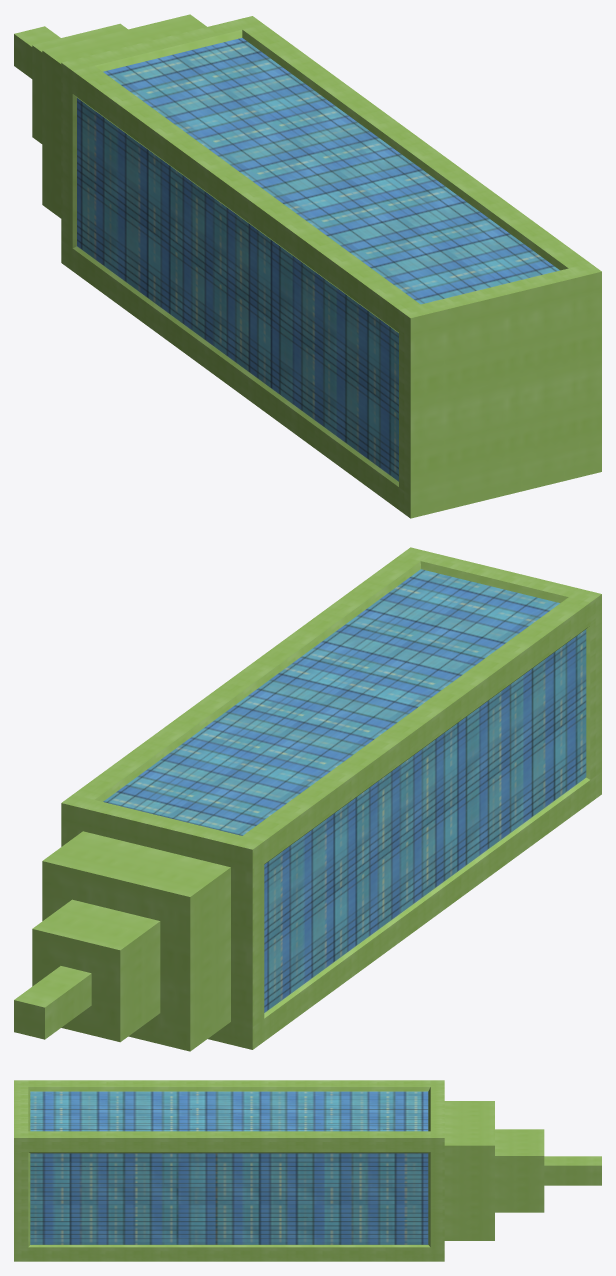
File: buildings-comercial-12.obj
3 views of the same model, one above another, from view 1: azimuth 30°, elevation 25°; view 2: azimuth 150°, elevation 25°; view 3: azimuth 270°, elevation 25° (orthographic). The views are drawn at different scales.
Parts seen in each view (by area): view 1: buildings-comercial-12_Cube.002; view 2: buildings-comercial-12_Cube.002; view 3: buildings-comercial-12_Cube.002.
Part boxes in pixels (box(x1,y1,x2,y2)): buildings-comercial-12_Cube.002: box(14, 14, 601, 518); buildings-comercial-12_Cube.002: box(14, 547, 601, 1051); buildings-comercial-12_Cube.002: box(14, 1080, 601, 1261).
Bounding box in the file's own units: 3.79 × 3.79 × 16.34.
